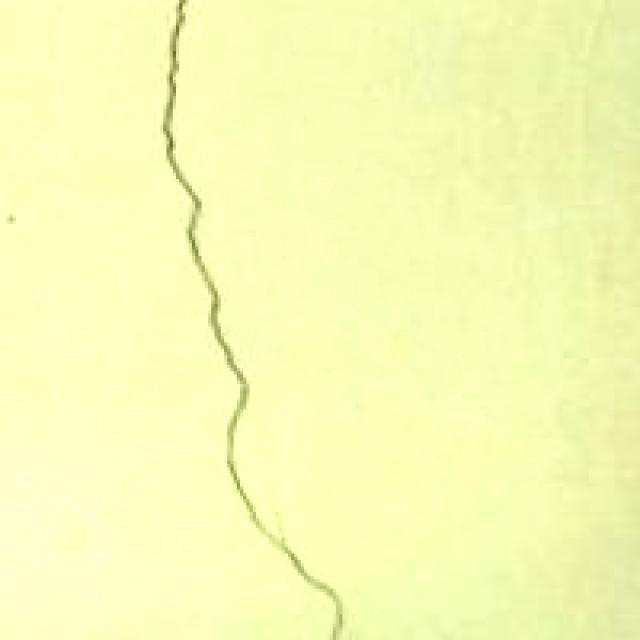crack: (134, 0, 374, 640)
